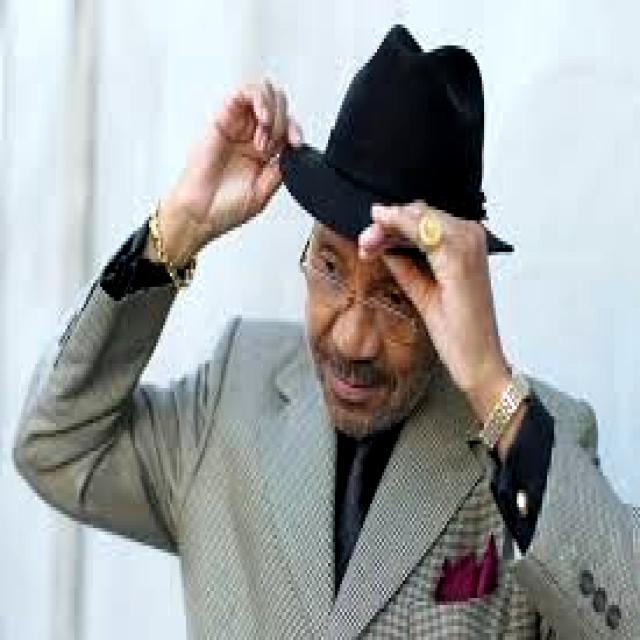hat: (280, 25, 486, 241)
